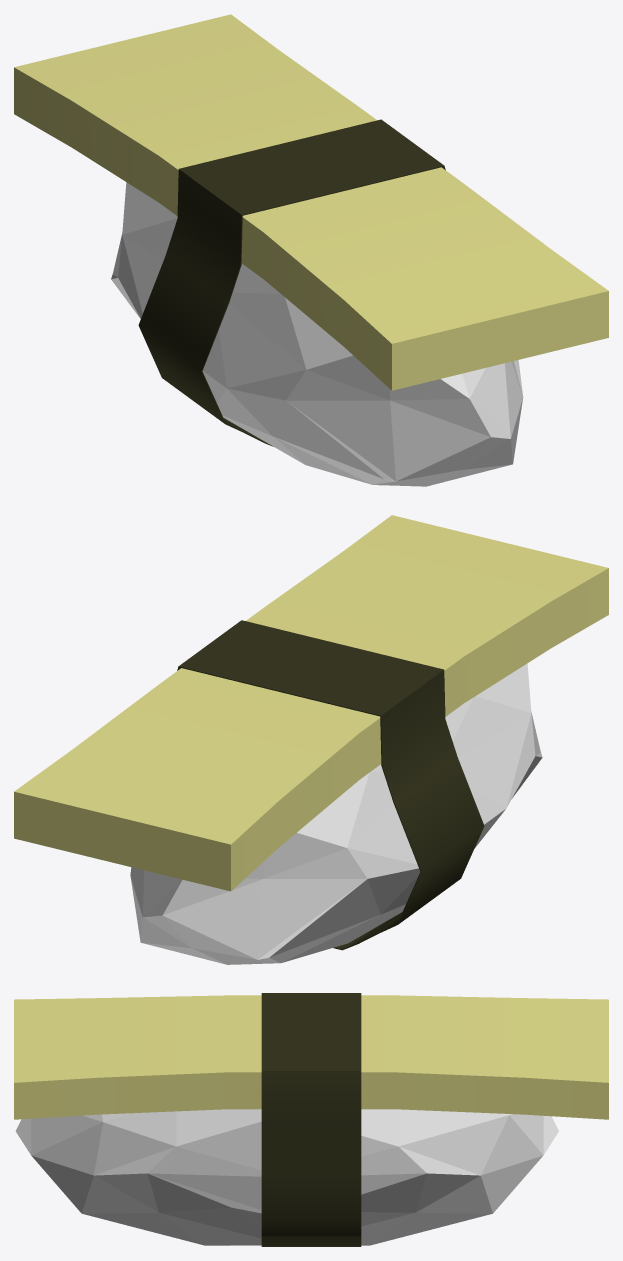
File: egg.gltf
3 renders of one model, top to bottom at view 1: azimuth 30°, elevation 25°; view 2: azimuth 150°, elevation 25°; view 3: azimuth 270°, elevation 25°, orthographic. The views are drawn at different scales.
Visible parts, largest first — view 1: Egg_GP Egg, Egg_GP Rice, SeaWeed Egg_GP; view 2: Egg_GP Egg, Egg_GP Rice, SeaWeed Egg_GP; view 3: Egg_GP Egg, Egg_GP Rice, SeaWeed Egg_GP.
Part boxes in pixels (left/top/right/bottom): Egg_GP Egg: left=14, top=14, right=608, bottom=390; Egg_GP Rice: left=111, top=182, right=523, bottom=486; SeaWeed Egg_GP: left=138, top=119, right=445, bottom=446; Egg_GP Egg: left=14, top=515, right=608, bottom=891; Egg_GP Rice: left=130, top=663, right=542, bottom=964; SeaWeed Egg_GP: left=177, top=620, right=484, bottom=950; Egg_GP Egg: left=14, top=995, right=608, bottom=1119; Egg_GP Rice: left=15, top=1109, right=558, bottom=1245; SeaWeed Egg_GP: left=261, top=993, right=361, bottom=1246.
Bounding box in the file's own units: 2.15 × 1.93 × 5.41.
